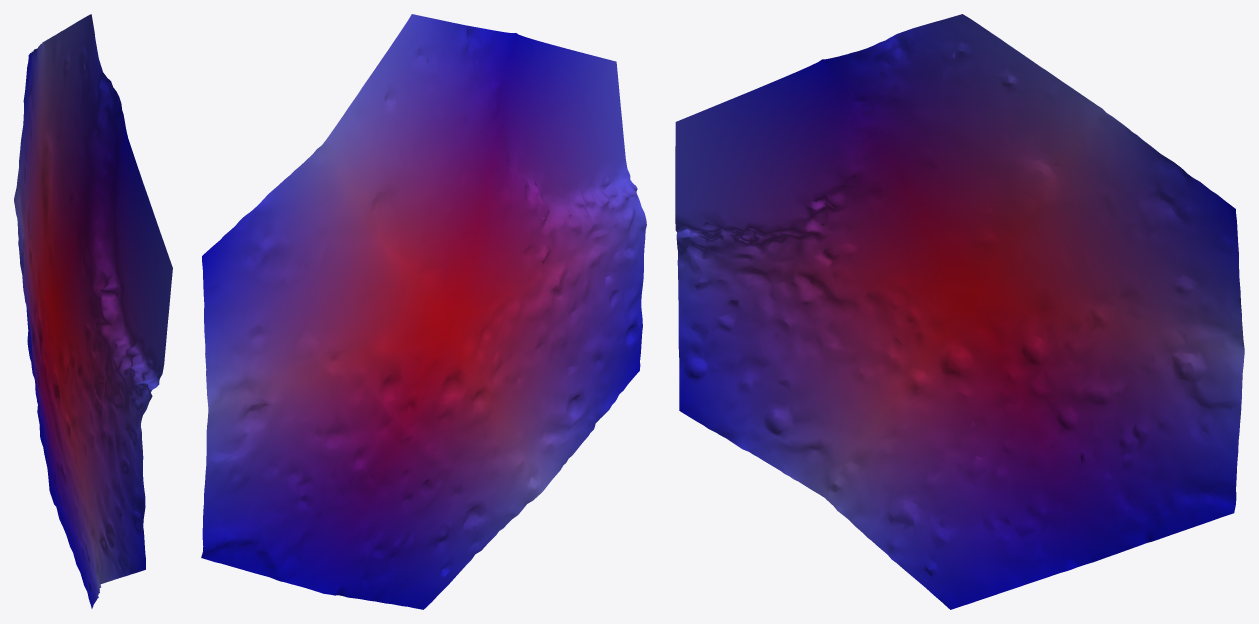
Rendered from Hex_25.fbx.
3 renders of one model, left to right at view 1: azimuth 30°, elevation 25°; view 2: azimuth 150°, elevation 25°; view 3: azimuth 270°, elevation 25°, orthographic.
Visible parts, largest first — view 1: Hex_25; view 2: Hex_25; view 3: Hex_25.
Boxes of the visible parts, x1,y1,x2,y2 form: Hex_25: (14,14,172,608); Hex_25: (201,14,646,609); Hex_25: (675,14,1244,609).
Size of the model in its own units: 149 by 508 by 438.
